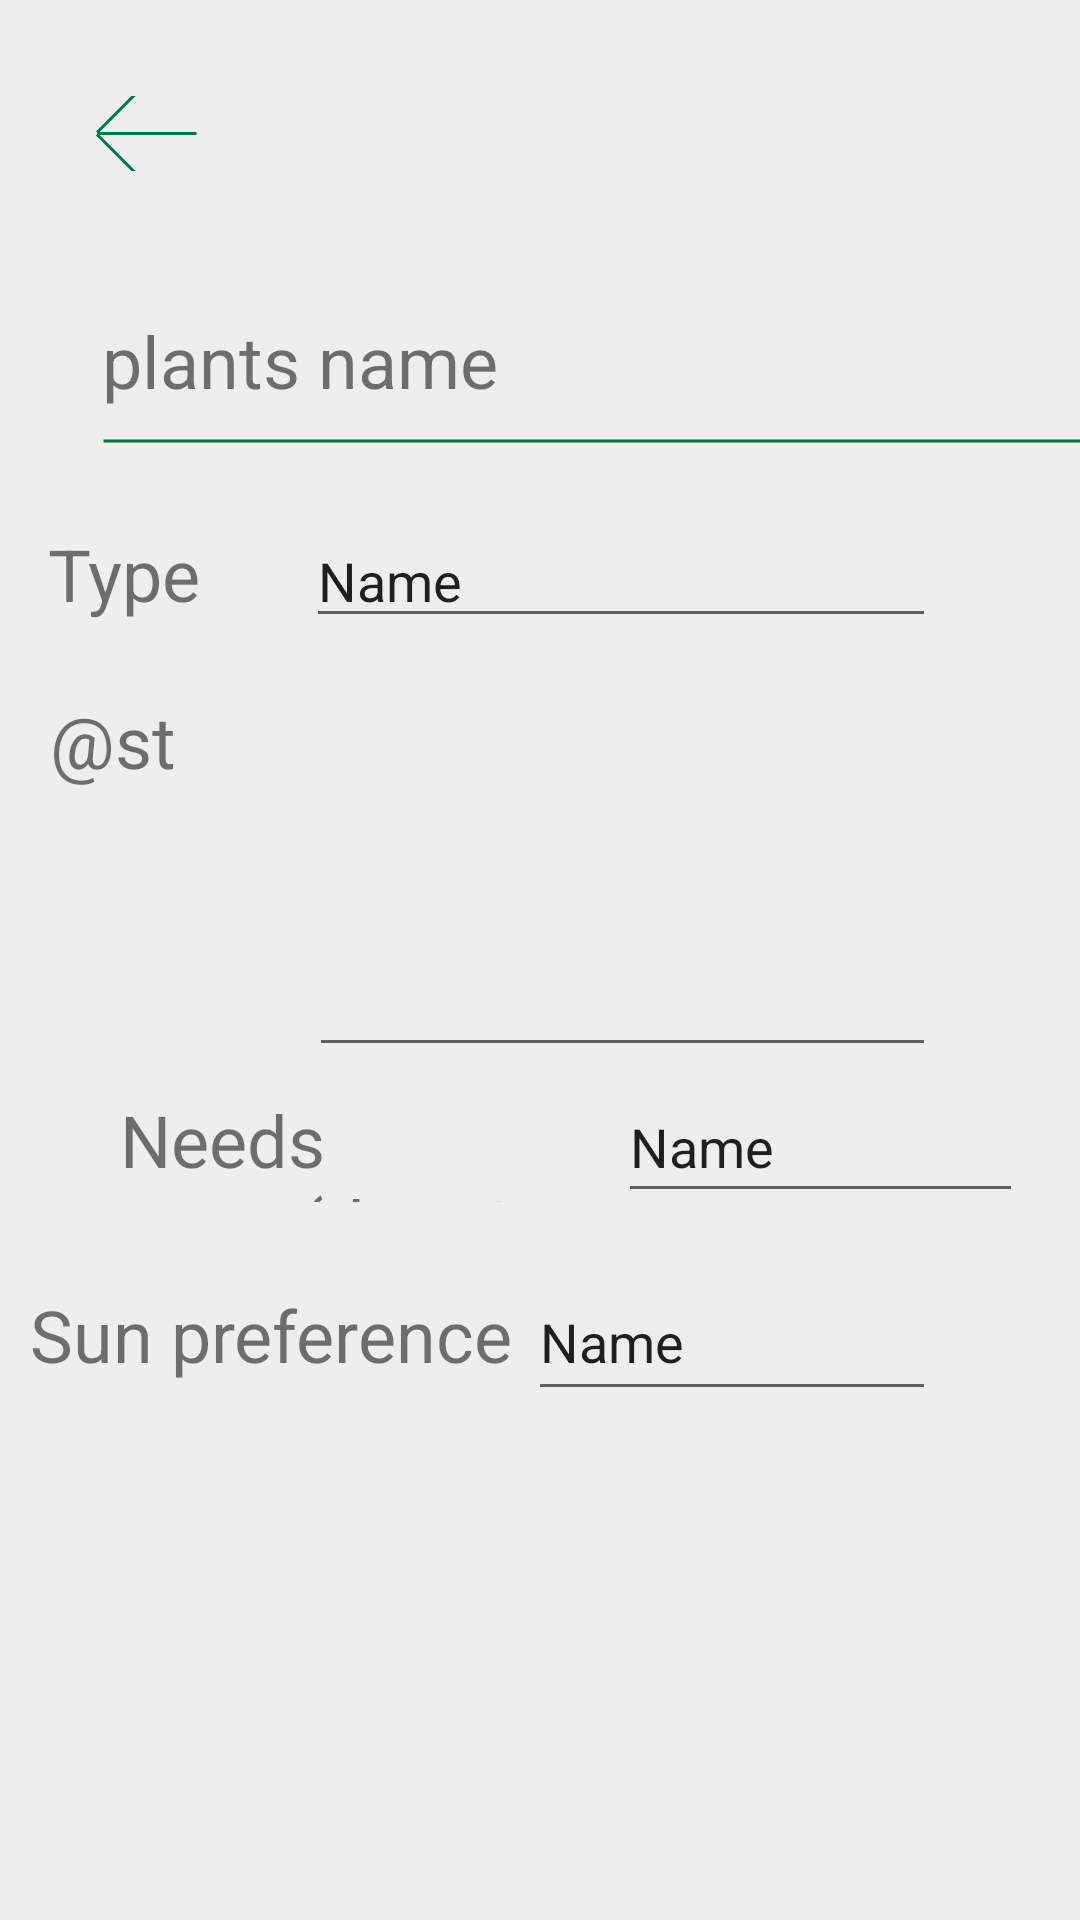

Point at icon controls on the screen. Image size 1080*1920, points as (x=x, y=y).
arrow: (x=146, y=133)
